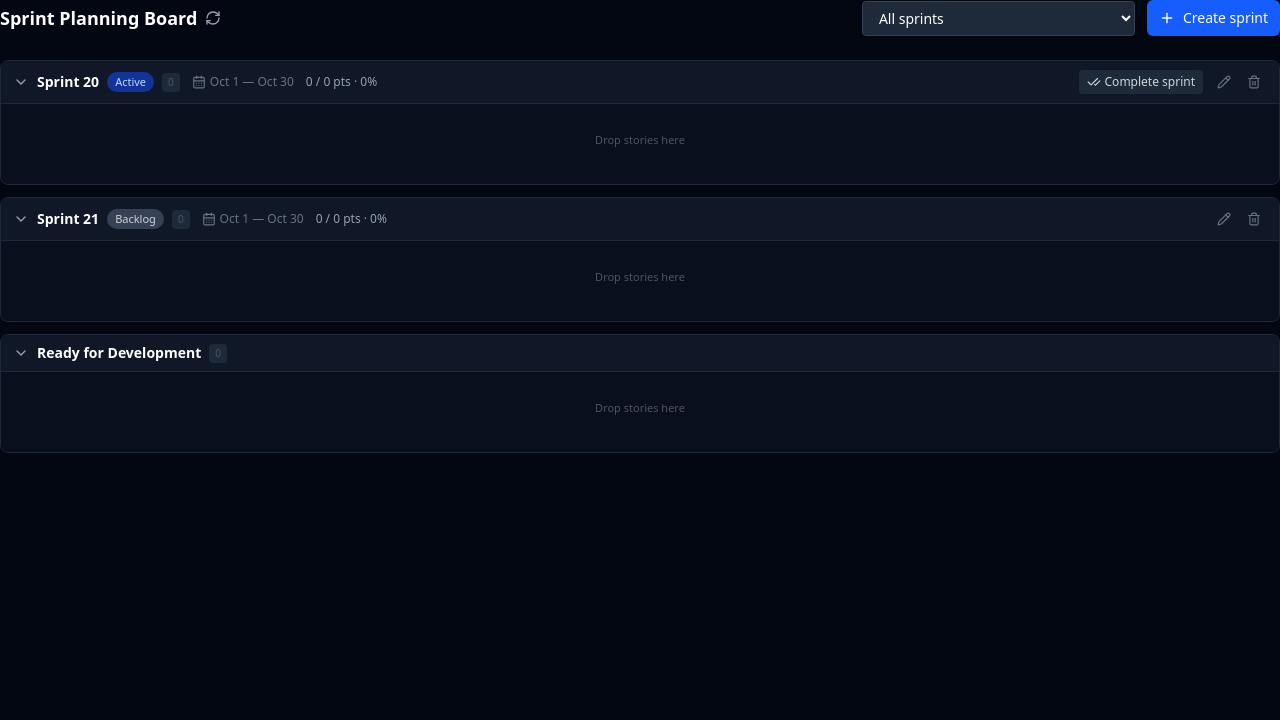
Test: SprintPlanningBoard — complete sprint and overdue label (FB-97) › opens the Complete sprint dialog from the row
The image size is (1280, 720).
Click the button "Complete sprint".
click(1141, 82)  # box [1078,70,1203,94]
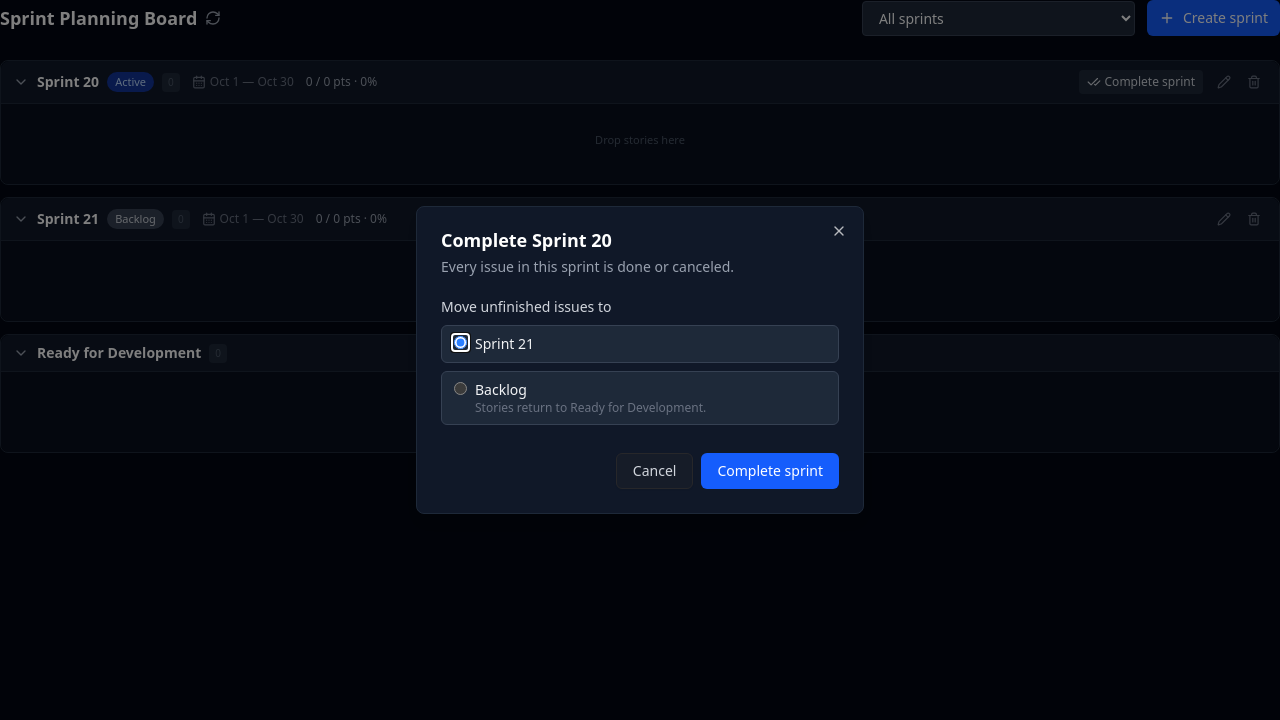
Now the dialog shows "Complete Sprint 20", box [416,206,864,514]
Now the radio button labelled "Sprint 21" is checked, box [454,336,467,349]
